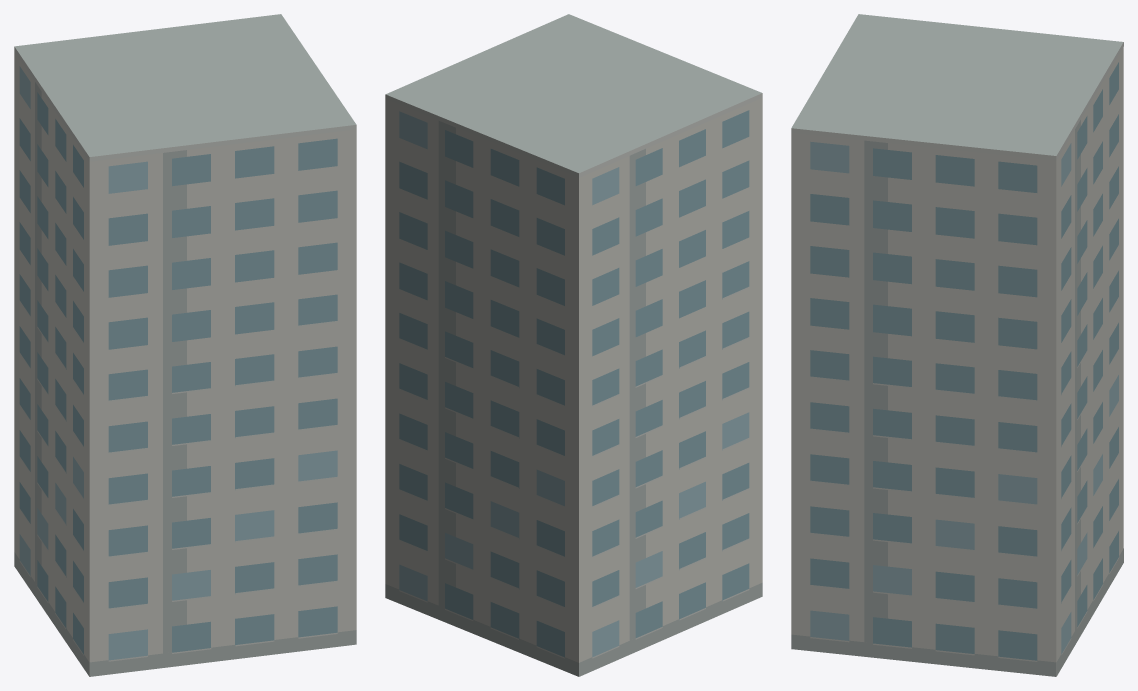
The model's file is residential-08adc36a-54b5-41bb-8514-e08b50c3782e.glb.
The picture shows the model from 3 angles, left to right: view 1: azimuth 30°, elevation 25°; view 2: azimuth 150°, elevation 25°; view 3: azimuth 270°, elevation 25°; orthographic projection. The views are drawn at different scales.
Parts seen in each view (by area): view 1: residential-08adc36a-54b5-41bb-8514-e08b50c3782e.tmp; view 2: residential-08adc36a-54b5-41bb-8514-e08b50c3782e.tmp; view 3: residential-08adc36a-54b5-41bb-8514-e08b50c3782e.tmp.
Part boxes in pixels (box(x1,y1,x2,y2)): residential-08adc36a-54b5-41bb-8514-e08b50c3782e.tmp: box(14, 14, 356, 676); residential-08adc36a-54b5-41bb-8514-e08b50c3782e.tmp: box(385, 14, 762, 676); residential-08adc36a-54b5-41bb-8514-e08b50c3782e.tmp: box(791, 14, 1123, 676).
Bounding box in the file's own units: 15.8 × 27 × 15.63.
